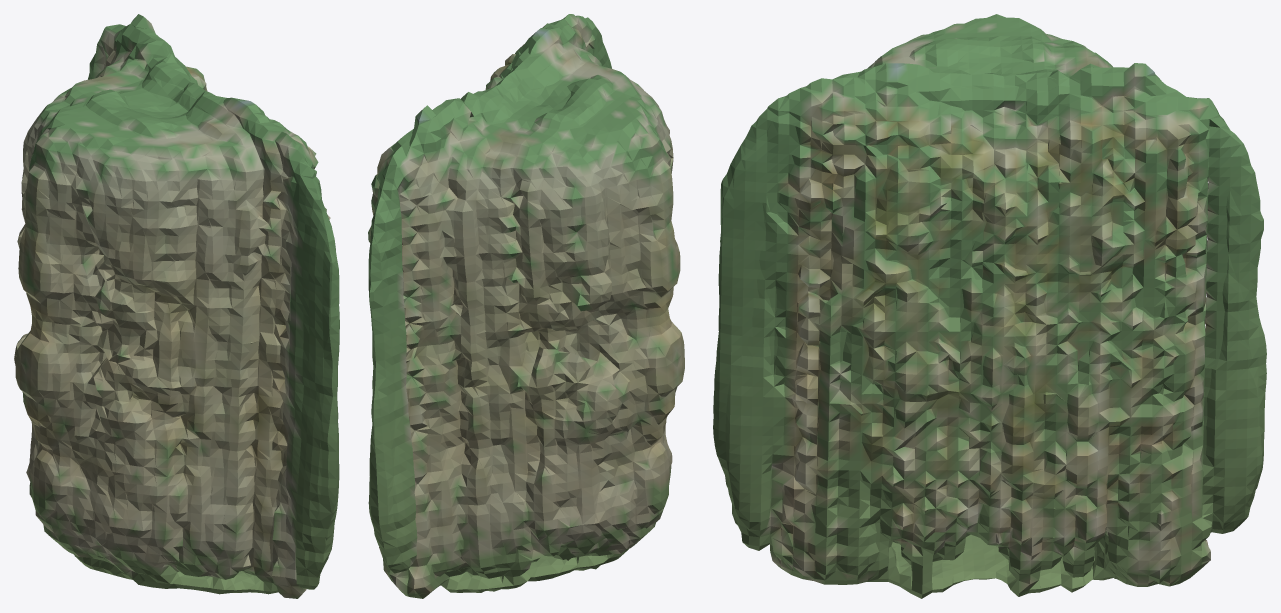
The model's file is vine_gate.glb.
3 renders of one model, left to right at view 1: azimuth 30°, elevation 25°; view 2: azimuth 150°, elevation 25°; view 3: azimuth 270°, elevation 25°, orthographic. The views are drawn at different scales.
Parts seen in each view (by area): view 1: world; view 2: world; view 3: world.
Part boxes in pixels (x1,y1,x2,y2): world: (14, 14, 339, 598); world: (368, 14, 684, 598); world: (713, 14, 1266, 598).
Bounding box in the file's own units: 4.28 × 8 × 7.6.
